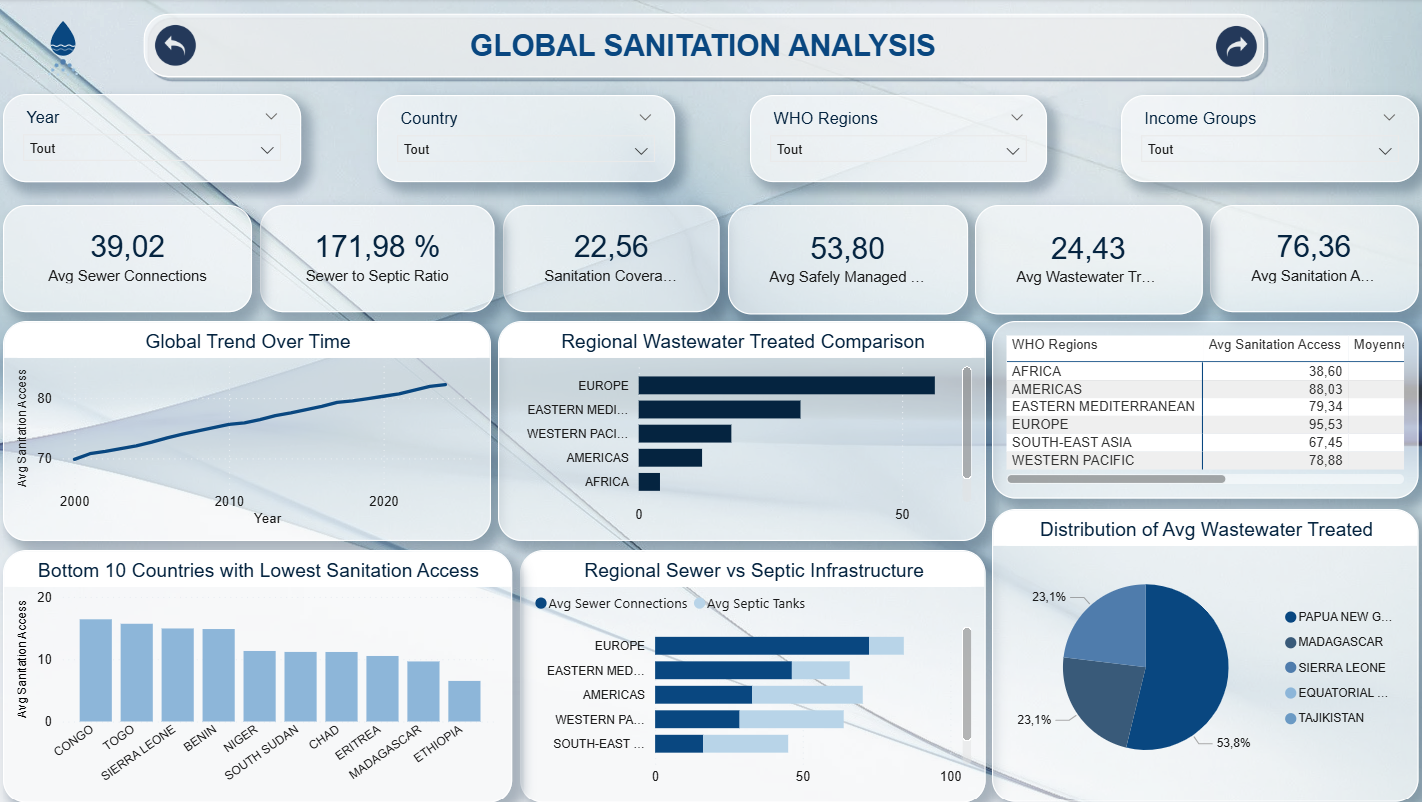

The dashboard page shown, as its layout file describes it:
{"tool":"powerbi","page":{"name":"Sanitation Analysis","canvas":[1280,720],"ordinal":1},"visuals":[{"type":"cardVisual","fields":{"Data":["SANITATION.Avg Sanitation Access"]},"box":[1087.6,184.1,186.8,95.7],"z":0},{"type":"cardVisual","fields":{"Data":["SANITATION.Sanitation Coverage Gap"]},"box":[453.8,184.1,194.3,95.7],"z":1000},{"type":"cardVisual","fields":{"Data":["SANITATION.Avg Safely Managed Sanitation"]},"box":[655.2,184.1,214.7,97.6],"z":2000},{"type":"cardVisual","fields":{"Data":["SANITATION.Sewer to Septic Ratio"]},"box":[236.7,184.1,210.1,95.7],"z":3000},{"type":"cardVisual","fields":{"Data":["SANITATION.Avg Wastewater Treated"]},"box":[876.9,184.1,203.6,97.6],"z":4000},{"type":"cardVisual","fields":{"Data":["Avg(SANITATION.sewer_connections)"]},"box":[6.5,184.1,223.1,95.7],"z":5000},{"type":"lineChart","title":"Global Trend Over Time","fields":{"Category":["YEAR.value"],"Y":["Avg(SANITATION.at_least_basic)"]},"box":[6.3,288.4,437,197],"z":6000},{"type":"clusteredBarChart","title":"Regional Wastewater Treated Comparison","fields":{"Category":["WHO_REGIONS.who_regions"],"Y":["SANITATION.Avg Wastewater Treated"]},"box":[449.6,288.4,437,197],"z":7000},{"type":"barChart","title":"Regional Sewer vs Septic Infrastructure","fields":{"Category":["WHO_REGIONS.who_regions"],"Y":["Avg(SANITATION.sewer_connections)","Avg(SANITATION.septic_tanks)"]},"box":[469.4,493.2,417.4,226.8],"z":8000},{"type":"columnChart","title":"Bottom 10 Countries with Lowest Sanitation Access","fields":{"Category":["COUNTRY.country_name"],"Y":["SANITATION.Avg Sanitation Access"]},"box":[6.3,493.4,455.8,226.6],"z":9000},{"type":"pivotTable","title":"Global Trend Over Time","fields":{"Values":["SANITATION.Avg Sanitation Access","Avg(SANITATION.urban_population_pct)"],"Rows":["WHO_REGIONS.who_regions"]},"box":[891.9,288.4,382.4,158.5],"z":10000},{"type":"pieChart","title":"Distribution of Avg Wastewater Treated","fields":{"Category":["COUNTRY.country_name"],"Y":["SANITATION.Avg Wastewater Treated"]},"box":[891.9,456.7,382.4,263.3],"z":11000},{"type":"slicer","fields":{"Values":["YEAR.value"]},"box":[6.4,84.8,266.8,79.4],"z":12000},{"type":"slicer","fields":{"Values":["COUNTRY.country_name"]},"box":[340.9,85.8,266.8,78.3],"z":13000},{"type":"slicer","fields":{"Values":["WHO_REGIONS.who_regions"]},"box":[675.5,85.8,265.7,78.3],"z":14000},{"type":"slicer","fields":{"Values":["INCOME_GROUPS.Income_Groups"]},"box":[1007.9,85.8,266.8,78.3],"z":15000},{"type":"shape","box":[126,7.4,1015.3,68.8],"z":16000},{"type":"image","box":[18,4.2,83.6,76.2],"z":17000},{"type":"textbox","box":[411.8,22.3,442.5,46.5],"z":18000},{"type":"image","box":[139.4,21.4,42.8,40],"z":19000},{"type":"image","box":[1089.4,22.3,42.8,40],"z":20000}]}

Visuals, with their boxes in screenshot pixels (x1, y1, x2, y2), scaled from the page's 1280x720 canvas onto the 1422x802 screenshot:
cardVisual - SANITATION.Avg Sanitation Access: {"x1": 1208, "y1": 205, "x2": 1416, "y2": 312}
cardVisual - SANITATION.Sanitation Coverage Gap: {"x1": 504, "y1": 205, "x2": 720, "y2": 312}
cardVisual - SANITATION.Avg Safely Managed Sanitation: {"x1": 728, "y1": 205, "x2": 966, "y2": 314}
cardVisual - SANITATION.Sewer to Septic Ratio: {"x1": 263, "y1": 205, "x2": 496, "y2": 312}
cardVisual - SANITATION.Avg Wastewater Treated: {"x1": 974, "y1": 205, "x2": 1200, "y2": 314}
cardVisual - Avg(SANITATION.sewer_connections): {"x1": 7, "y1": 205, "x2": 255, "y2": 312}
"Global Trend Over Time" lineChart: {"x1": 7, "y1": 321, "x2": 492, "y2": 541}
"Regional Wastewater Treated Comparison" clusteredBarChart: {"x1": 499, "y1": 321, "x2": 985, "y2": 541}
"Regional Sewer vs Septic Infrastructure" barChart: {"x1": 521, "y1": 549, "x2": 985, "y2": 801}
"Bottom 10 Countries with Lowest Sanitation Access" columnChart: {"x1": 7, "y1": 550, "x2": 513, "y2": 801}
"Global Trend Over Time" pivotTable: {"x1": 991, "y1": 321, "x2": 1416, "y2": 498}
"Distribution of Avg Wastewater Treated" pieChart: {"x1": 991, "y1": 509, "x2": 1416, "y2": 801}
slicer - YEAR.value: {"x1": 7, "y1": 94, "x2": 304, "y2": 183}
slicer - COUNTRY.country_name: {"x1": 379, "y1": 96, "x2": 675, "y2": 183}
slicer - WHO_REGIONS.who_regions: {"x1": 750, "y1": 96, "x2": 1046, "y2": 183}
slicer - INCOME_GROUPS.Income_Groups: {"x1": 1120, "y1": 96, "x2": 1416, "y2": 183}
shape: {"x1": 140, "y1": 8, "x2": 1268, "y2": 85}
image: {"x1": 20, "y1": 5, "x2": 113, "y2": 90}
textbox: {"x1": 457, "y1": 25, "x2": 949, "y2": 77}
image: {"x1": 155, "y1": 24, "x2": 202, "y2": 68}
image: {"x1": 1210, "y1": 25, "x2": 1258, "y2": 69}
